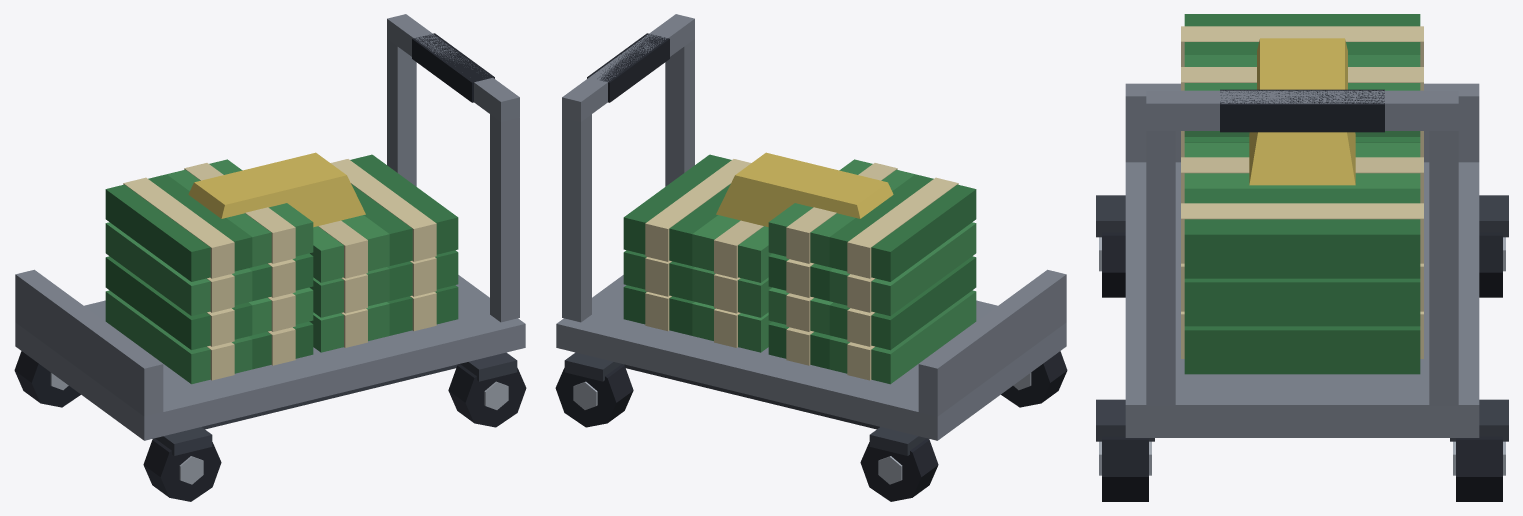
The model's file is Decor_GoldVault_Trolley.fbx.
3 renders of one model, left to right at view 1: azimuth 30°, elevation 25°; view 2: azimuth 150°, elevation 25°; view 3: azimuth 270°, elevation 25°, orthographic. The views are drawn at different scales.
Visible parts, largest first — view 1: Trolley_Body; view 2: Trolley_Body; view 3: Trolley_Body.
Part boxes in pixels (x1=…): Trolley_Body: x1=14, y1=14, x2=526, y2=501; Trolley_Body: x1=555, y1=14, x2=1067, y2=501; Trolley_Body: x1=1096, y1=14, x2=1508, y2=501.
Bounding box in the file's own units: 10.05 × 7.7 × 6.8.
